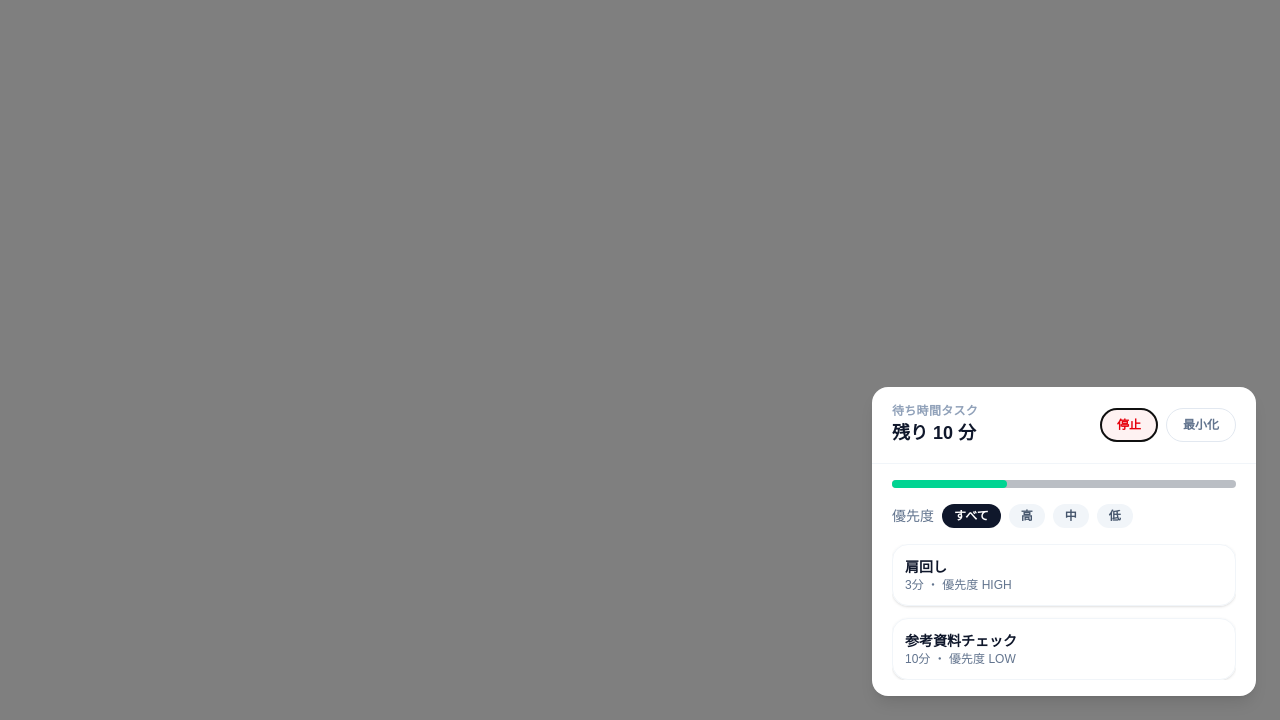
it: PopupTaskPanel › 優先度フィルターで一覧を切り替えられる
This screenshot has width=1280, height=720.
Check: the text "肩回し" is shown, box top-left (905, 559), bottom-right (947, 575)
Check: the text "参考資料チェック" is shown, box top-left (905, 633), bottom-right (1017, 649)
Click the button "低" at [1115, 516], box top-left (1097, 504), bottom-right (1133, 528)
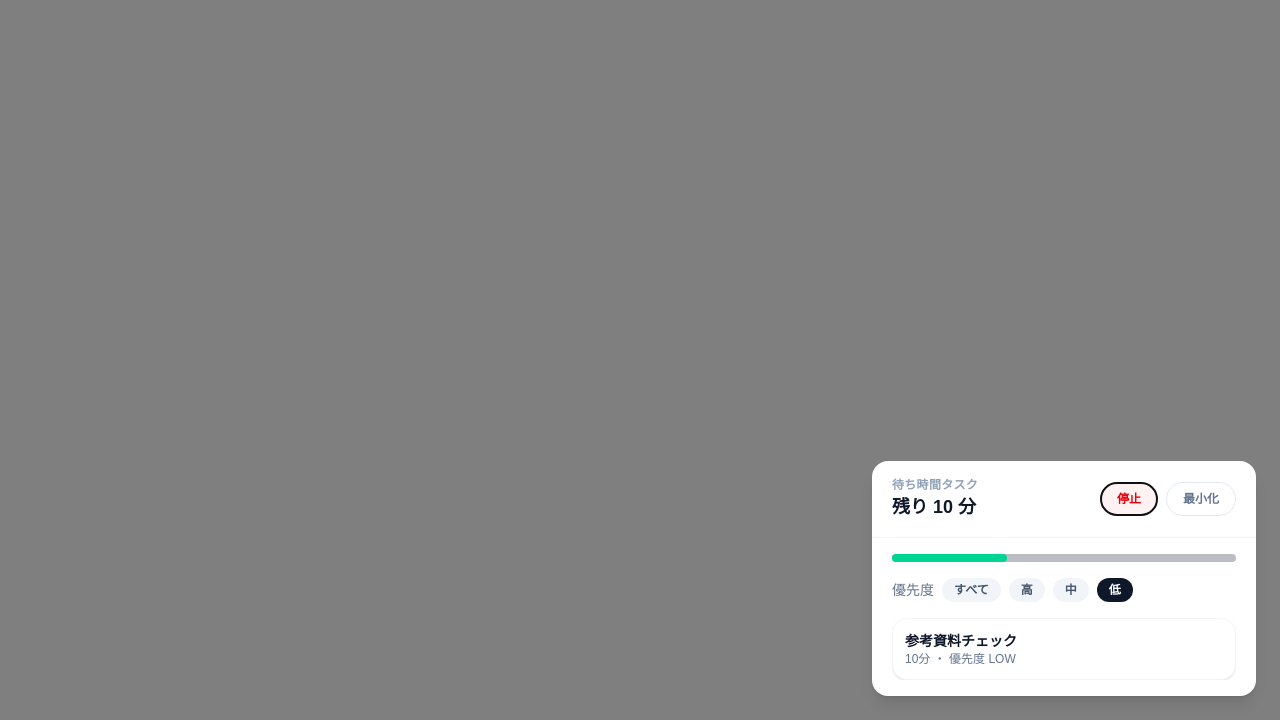
Check: the text "参考資料チェック" is shown, box top-left (905, 633), bottom-right (1017, 649)
Check: the text "肩回し" is gone
